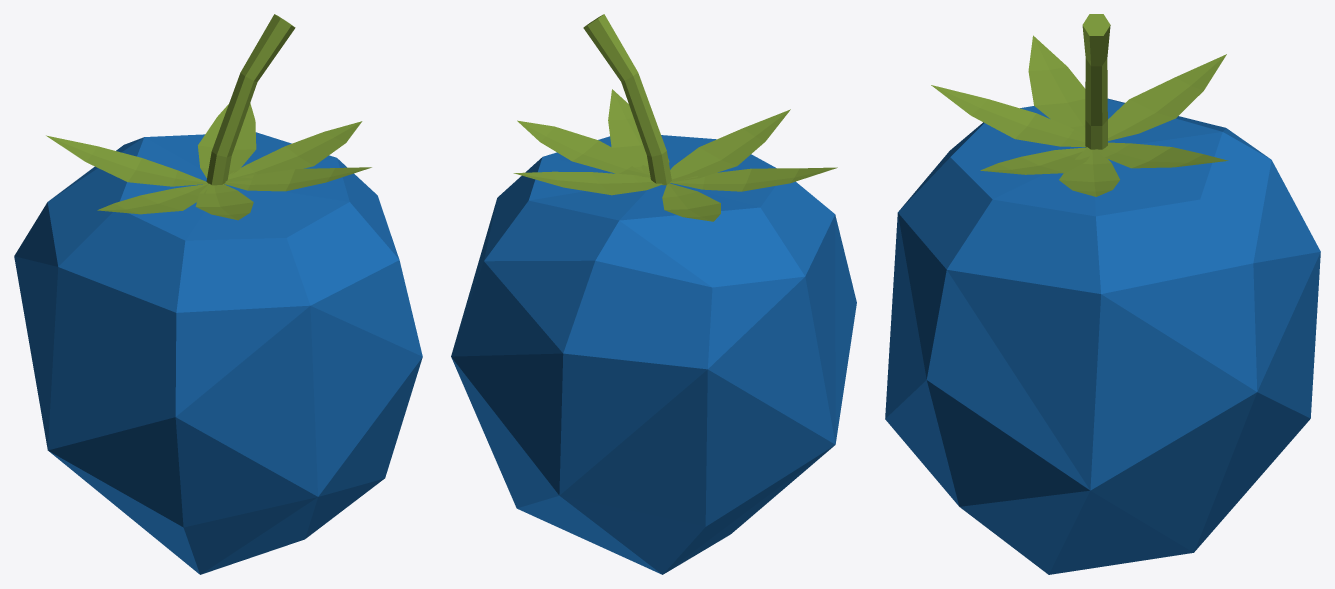
Rendered from Raspberry Blue.obj.
The picture shows the model from 3 angles, left to right: view 1: azimuth 30°, elevation 25°; view 2: azimuth 150°, elevation 25°; view 3: azimuth 270°, elevation 25°; orthographic projection. The views are drawn at different scales.
Parts seen in each view (by area): view 1: Raspberry Blue_0; view 2: Raspberry Blue_0; view 3: Raspberry Blue_0.
Part boxes in pixels (bbox=[...]): Raspberry Blue_0: bbox=[14, 14, 422, 574]; Raspberry Blue_0: bbox=[451, 14, 856, 574]; Raspberry Blue_0: bbox=[885, 14, 1320, 574].
Size of the model in its own units: 0.2475 by 0.3454 by 0.2408.
1 material, 1 textured.
